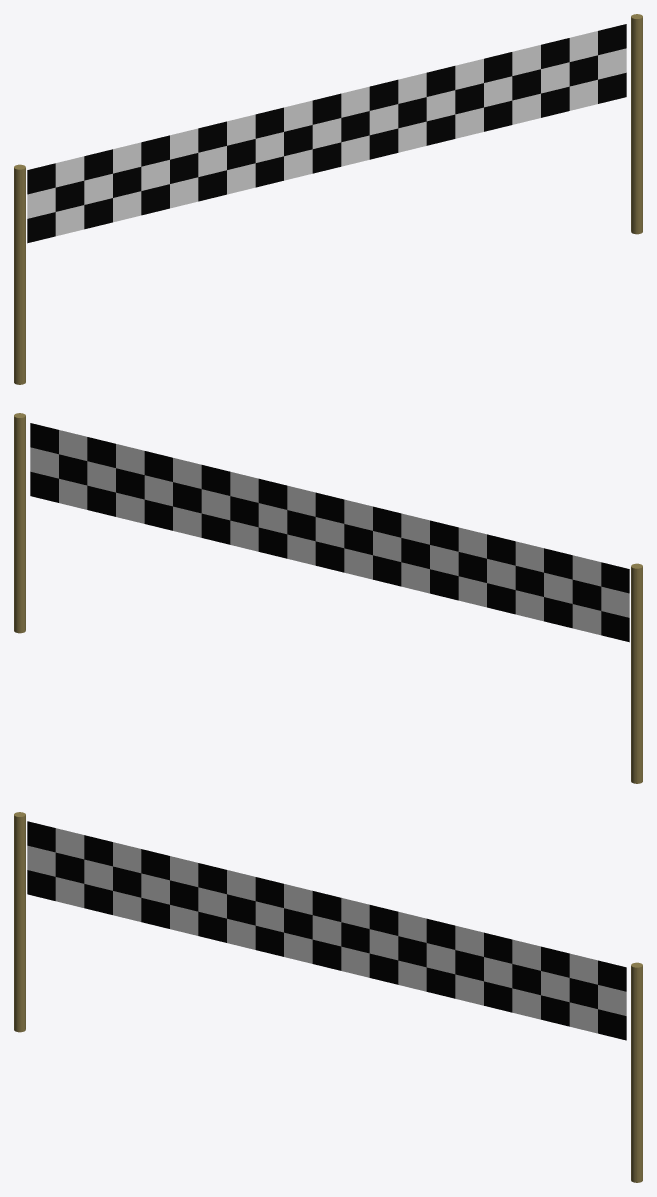
The model's file is finishline.fbx.
3 views of the same model, one above another, from view 1: azimuth 30°, elevation 25°; view 2: azimuth 150°, elevation 25°; view 3: azimuth 330°, elevation 25° (orthographic).
Visible parts, largest first — view 1: checkers, poles; view 2: checkers, poles; view 3: checkers, poles.
Part boxes in pixels (x1,y1,x2,y2): checkers: (27, 24, 626, 243); poles: (14, 14, 642, 384); checkers: (30, 423, 629, 642); poles: (14, 413, 642, 783); checkers: (27, 821, 626, 1040); poles: (14, 812, 642, 1182).
Bounding box in the file's own units: 610 × 200 × 10.
